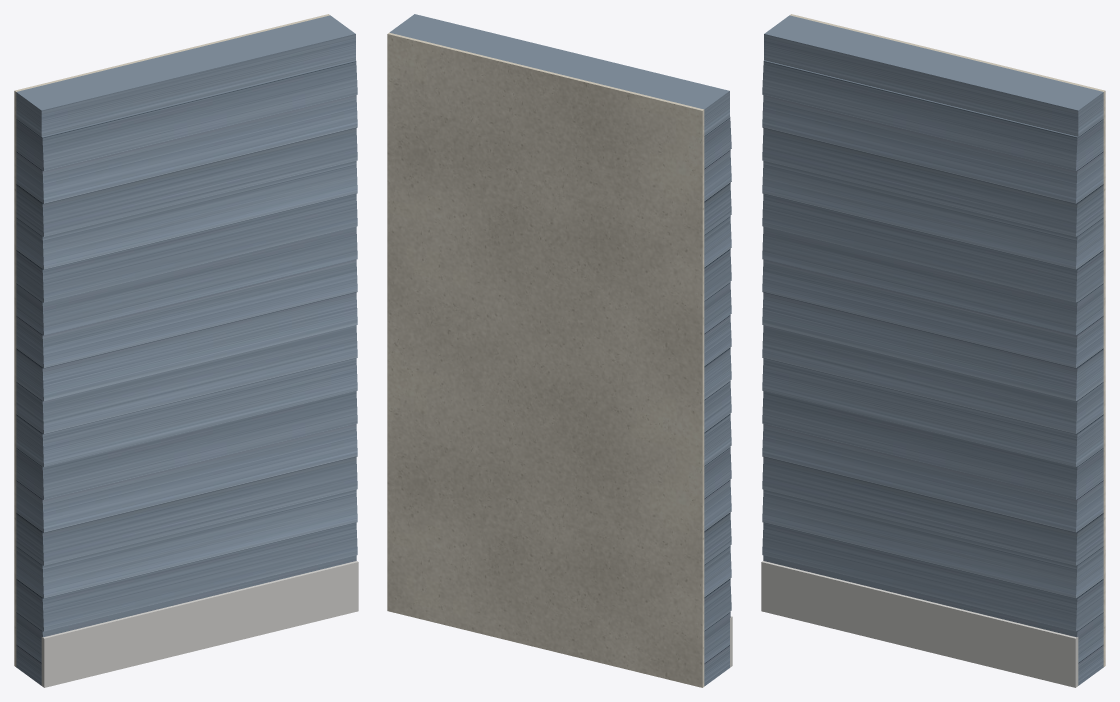
File: wall_garage_plain.glb
The picture shows the model from 3 angles, left to right: view 1: azimuth 30°, elevation 25°; view 2: azimuth 150°, elevation 25°; view 3: azimuth 330°, elevation 25°; orthographic projection.
Parts seen in each view (by area): view 1: wall_garage_plain_siding, wall_garage_plain_concrete, wall_garage_plain_plaster; view 2: wall_garage_plain_plaster, wall_garage_plain_siding; view 3: wall_garage_plain_siding, wall_garage_plain_concrete, wall_garage_plain_plaster.
Boxes of the visible parts, x1=… form: wall_garage_plain_siding: x1=16, y1=15, x2=357, y2=685; wall_garage_plain_concrete: x1=41, y1=561, x2=358, y2=687; wall_garage_plain_plaster: x1=14, y1=14, x2=329, y2=666; wall_garage_plain_plaster: x1=387, y1=32, x2=704, y2=687; wall_garage_plain_siding: x1=389, y1=14, x2=731, y2=686; wall_garage_plain_siding: x1=762, y1=15, x2=1103, y2=685; wall_garage_plain_concrete: x1=761, y1=561, x2=1078, y2=687; wall_garage_plain_plaster: x1=790, y1=14, x2=1105, y2=666.
Size of the model in its own units: 2 by 3.5 by 0.33.
3 materials, 2 textured.
